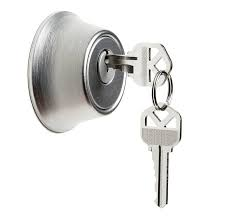key: (135, 93, 186, 214)
